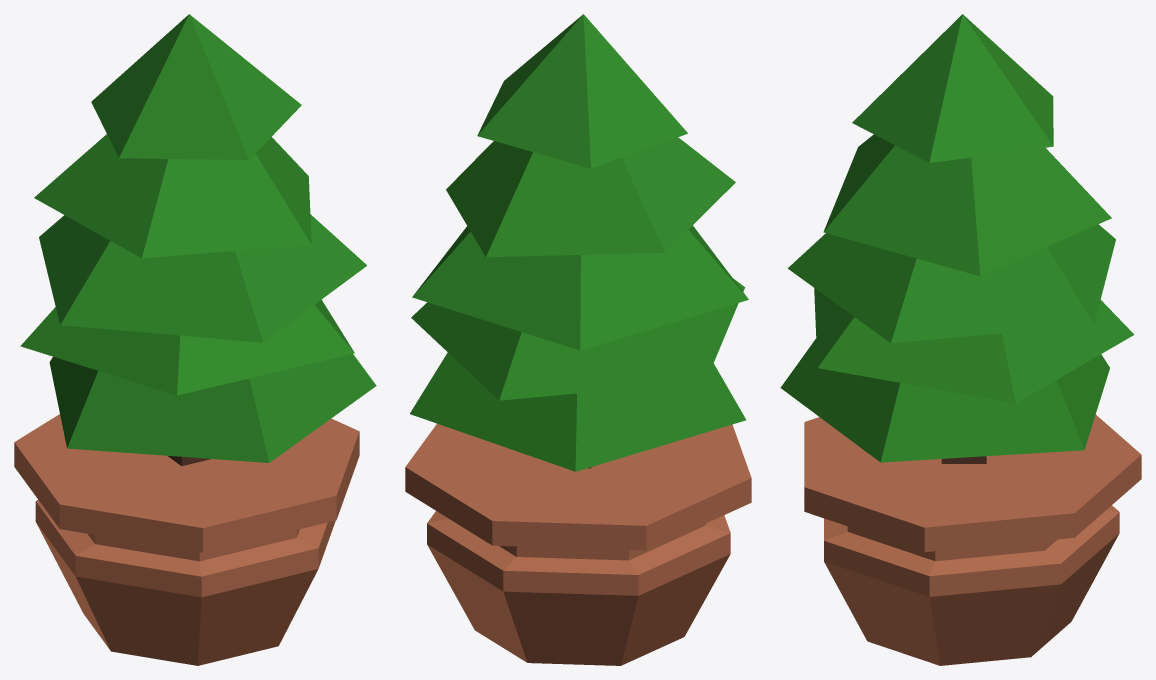
The model's file is Topiary.dae.
The picture shows the model from 3 angles, left to right: view 1: azimuth 30°, elevation 25°; view 2: azimuth 150°, elevation 25°; view 3: azimuth 270°, elevation 25°; orthographic projection.
Visible parts, largest first — view 1: leaves, pot; view 2: leaves, pot; view 3: leaves, pot.
Boxes of the visible parts, x1,y1,x2,y2 form: leaves: (20, 14, 376, 462); pot: (14, 414, 359, 665); leaves: (410, 14, 748, 471); pot: (405, 423, 751, 665); leaves: (780, 14, 1134, 462); pot: (804, 414, 1141, 665).
Bounding box in the file's own units: 2.22 × 2.32 × 4.3.
